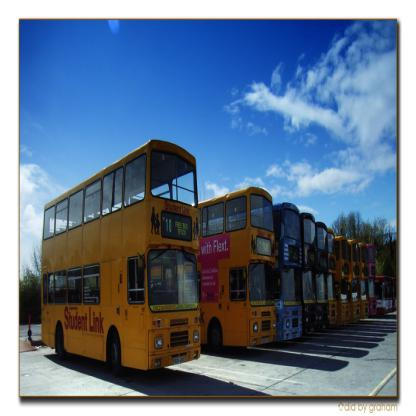Bus: (41, 135, 399, 383)
